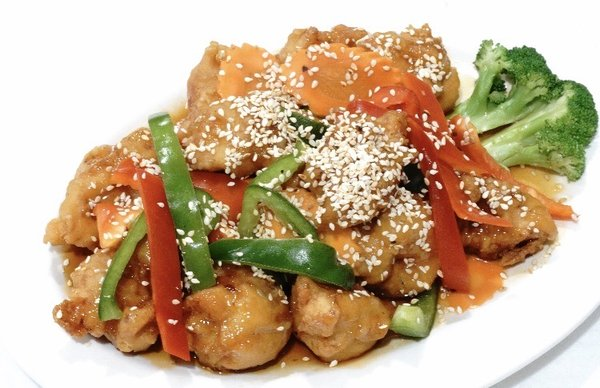curry: (454, 39, 599, 181)
